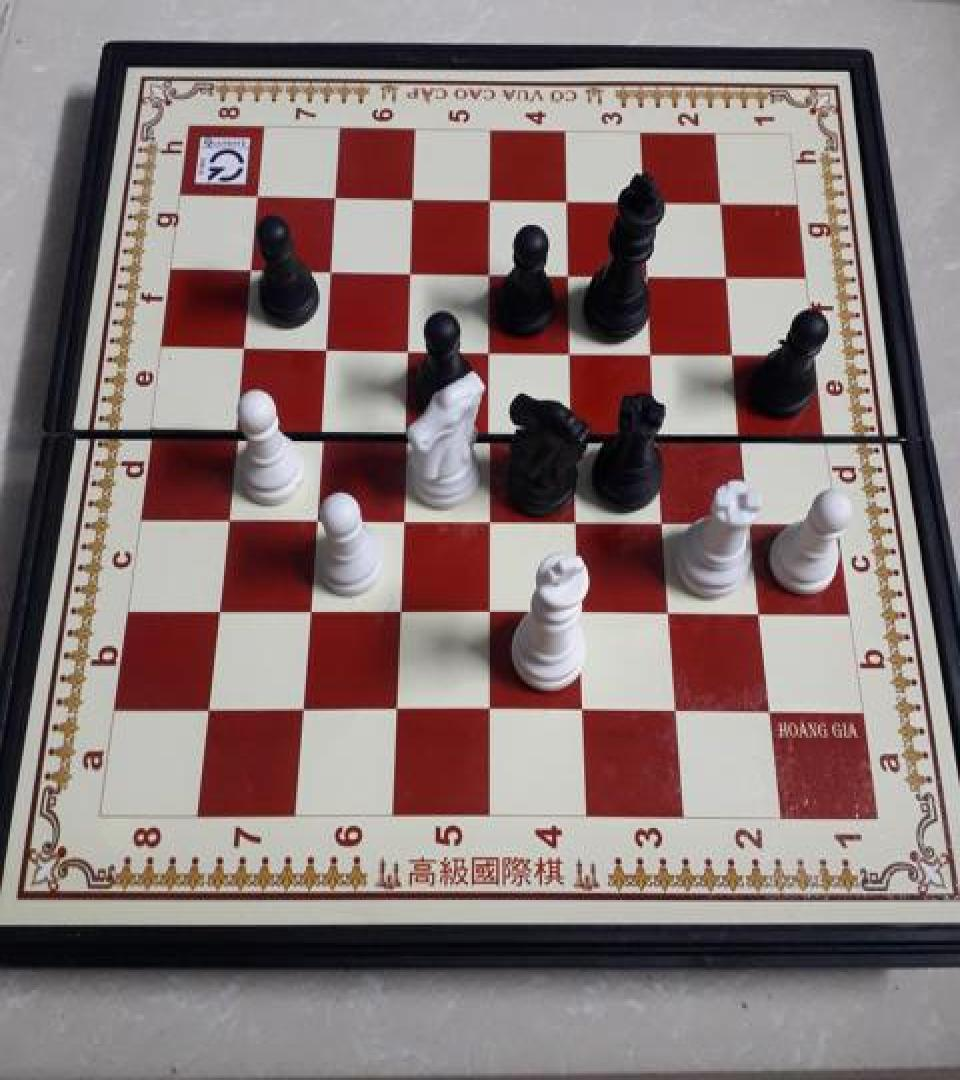xcorner: (193, 688, 225, 725), (287, 689, 319, 726), (381, 689, 413, 726), (203, 588, 235, 625), (474, 691, 506, 727), (568, 692, 600, 728), (661, 692, 693, 728), (753, 693, 785, 729), (294, 590, 326, 626), (385, 590, 417, 626), (475, 590, 507, 626), (565, 592, 597, 628), (654, 593, 686, 629), (744, 593, 776, 629), (213, 495, 245, 531), (301, 496, 333, 532), (388, 497, 420, 533), (475, 498, 507, 534), (562, 498, 594, 534), (649, 500, 681, 536), (735, 500, 767, 536), (222, 407, 254, 443), (307, 408, 339, 444), (391, 410, 423, 446), (476, 410, 508, 446), (560, 412, 592, 448), (643, 413, 675, 449), (727, 414, 759, 450), (230, 326, 262, 362), (312, 328, 344, 364), (476, 330, 508, 366), (557, 331, 589, 367), (638, 332, 670, 368), (719, 333, 751, 369), (238, 250, 270, 286), (318, 251, 350, 287), (397, 252, 429, 288), (476, 253, 508, 289), (555, 254, 587, 290), (633, 256, 665, 292), (712, 256, 744, 292), (246, 178, 278, 214), (323, 179, 355, 215), (400, 180, 432, 216), (476, 181, 508, 217), (553, 182, 585, 218), (629, 184, 661, 220), (394, 329, 426, 364), (705, 186, 737, 221)
